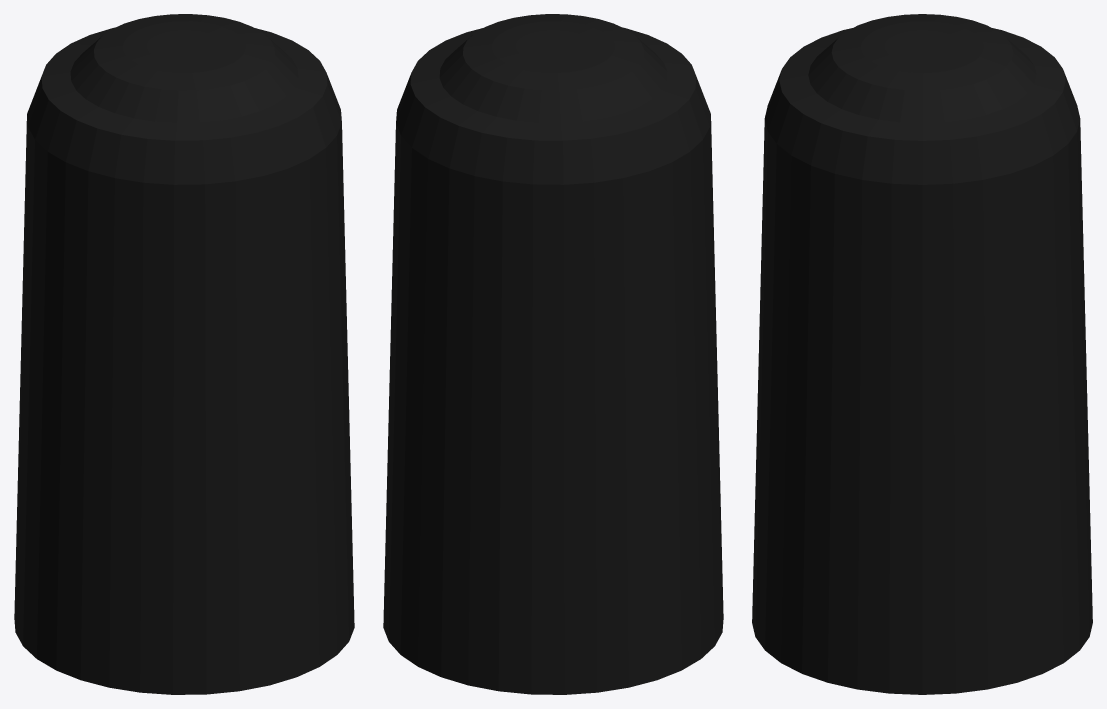
Rendered from tope.obj.
3 views of the same model, side by side, from view 1: azimuth 30°, elevation 25°; view 2: azimuth 150°, elevation 25°; view 3: azimuth 270°, elevation 25° (orthographic).
Visible parts, largest first — view 1: Circle; view 2: Circle; view 3: Circle.
Part boxes in pixels (left/top/right/bottom): Circle: left=14, top=14, right=354, bottom=694; Circle: left=383, top=14, right=723, bottom=694; Circle: left=752, top=14, right=1092, bottom=694.
Bounding box in the file's own units: 0.2568 × 0.4796 × 0.2568.
1 material, 1 textured.
